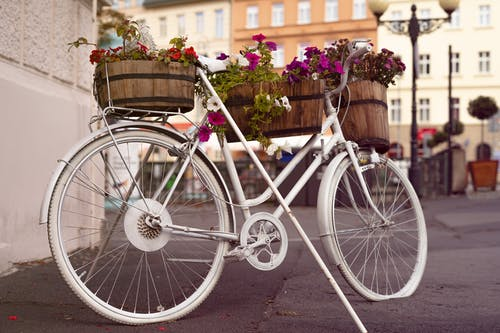bicycle: (36, 34, 434, 329)
